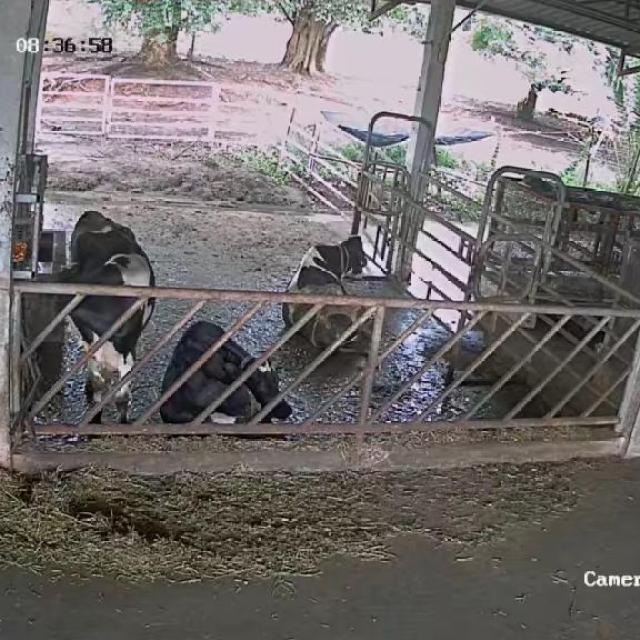lying down: (163, 313, 289, 435), (281, 228, 378, 354)
standing: (37, 205, 159, 417)
